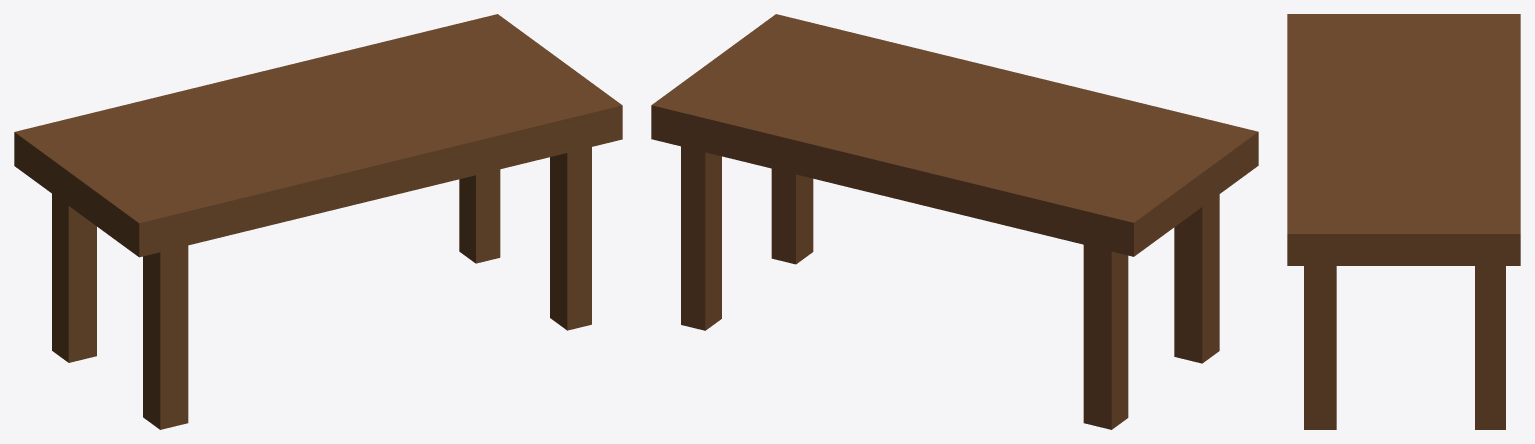
File: bench.fbx
The picture shows the model from 3 angles, left to right: view 1: azimuth 30°, elevation 25°; view 2: azimuth 150°, elevation 25°; view 3: azimuth 270°, elevation 25°; orthographic projection. The views are drawn at different scales.
Parts seen in each view (by area): view 1: pCube40; view 2: pCube40; view 3: pCube40.
Boxes of the visible parts, x1,y1,x2,y2 form: pCube40: (14,14,622,429); pCube40: (651,14,1258,429); pCube40: (1287,14,1520,429).
Size of the model in its own units: 0.6267 by 0.2732 by 0.2803.
